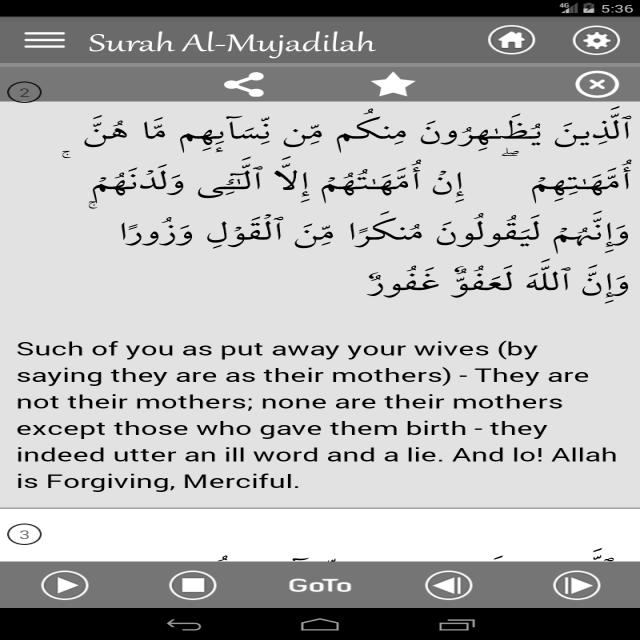ImageButton: (31, 566, 118, 604), (538, 568, 616, 604), (481, 20, 545, 58), (156, 567, 223, 603), (568, 21, 626, 59), (213, 68, 280, 98), (11, 25, 75, 55), (564, 67, 628, 97), (362, 69, 426, 99), (421, 570, 476, 600)
TextView: (58, 105, 638, 300), (10, 330, 631, 500), (85, 27, 387, 59)
